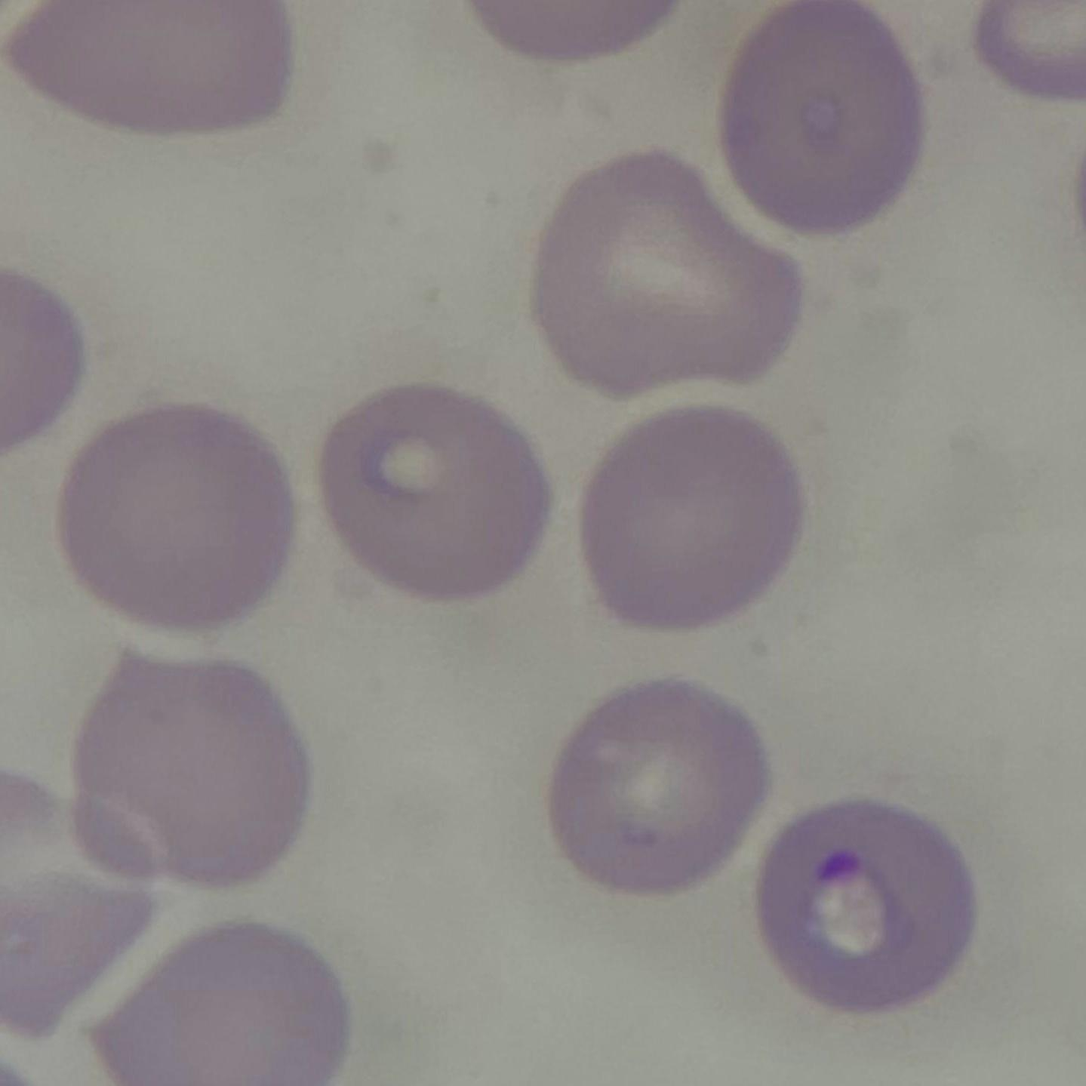Infected: (764, 802, 979, 1009)
Uninfected: (534, 151, 805, 392), (70, 649, 310, 888), (62, 402, 292, 633), (325, 385, 550, 602), (723, 0, 926, 238), (587, 408, 805, 629), (557, 681, 766, 896), (77, 923, 349, 1086), (0, 0, 298, 134)
